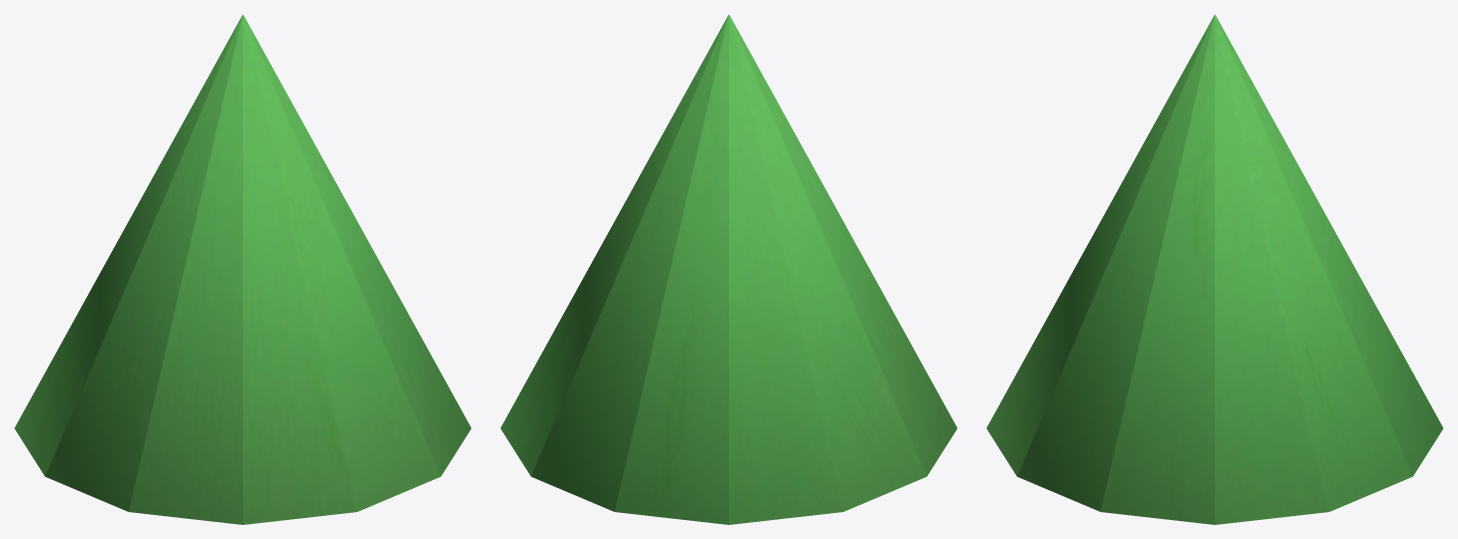
The model's file is ConeBlock_Green.fbx.
The picture shows the model from 3 angles, left to right: view 1: azimuth 30°, elevation 25°; view 2: azimuth 150°, elevation 25°; view 3: azimuth 270°, elevation 25°; orthographic projection.
Parts seen in each view (by area): view 1: Cone.002; view 2: Cone.002; view 3: Cone.002.
Part boxes in pixels (x1,y1,x2,y2): Cone.002: (14,14,471,524); Cone.002: (500,14,957,524); Cone.002: (986,14,1443,524).
Bounding box in the file's own units: 100 × 100 × 100.
